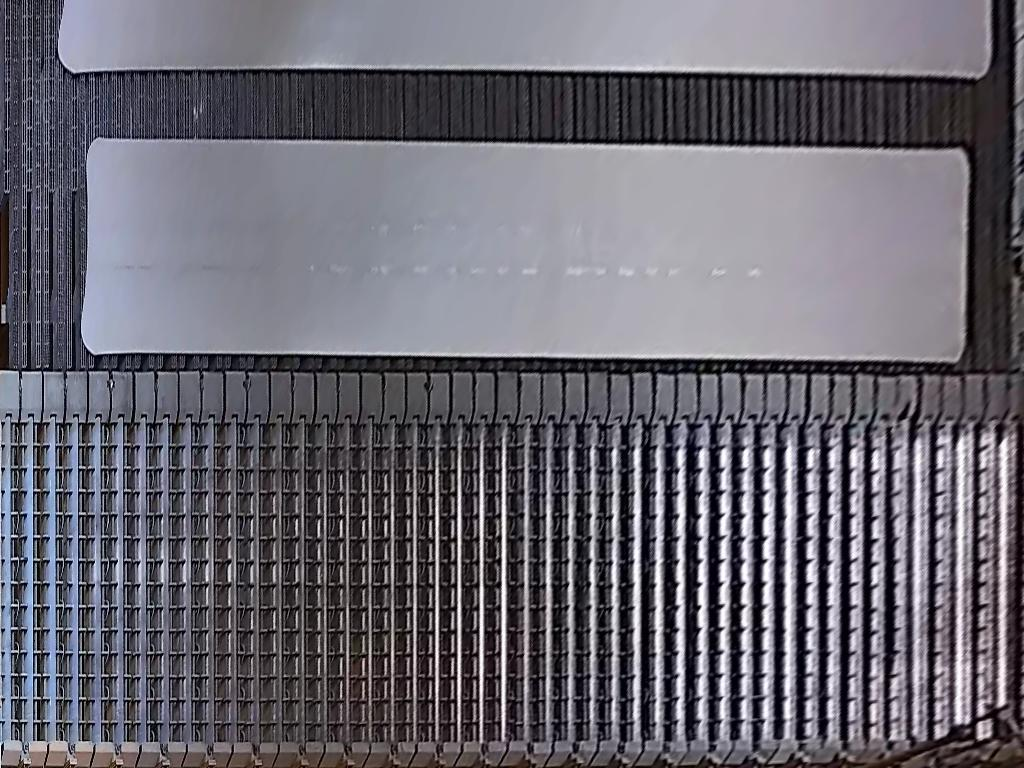steel: (81, 133, 968, 361), (57, 1, 994, 78)
